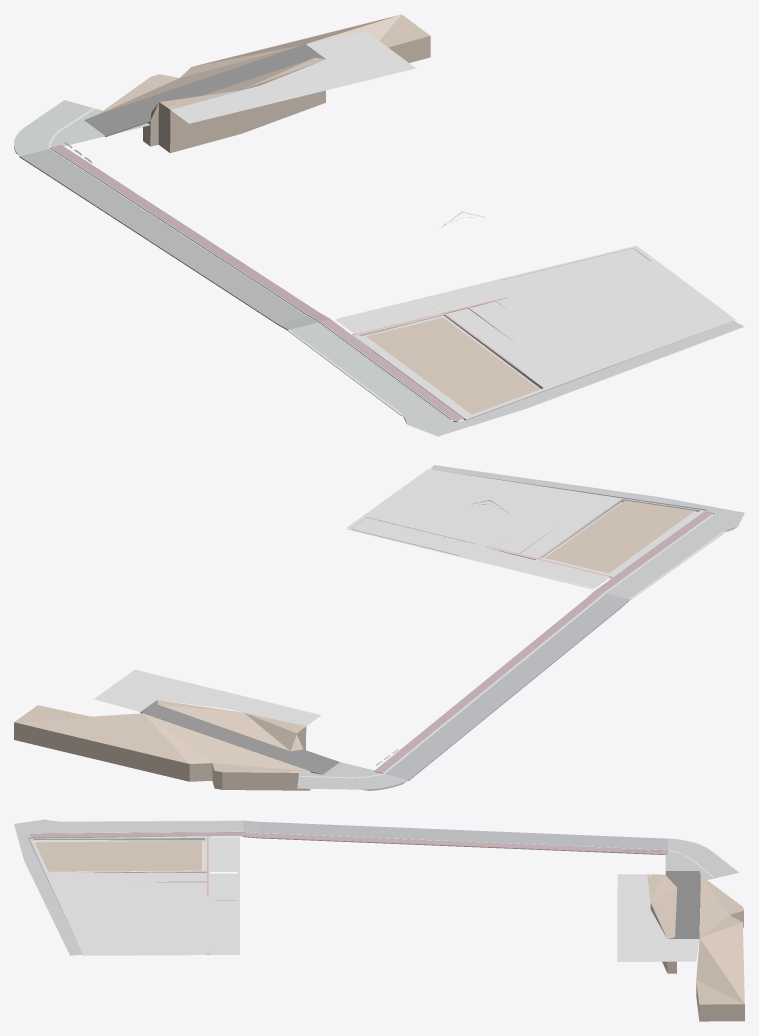
File: Exterieur 1.fbx
The picture shows the model from 3 angles, top to bottom: view 1: azimuth 30°, elevation 25°; view 2: azimuth 150°, elevation 25°; view 3: azimuth 270°, elevation 25°; orthographic projection. The views are drawn at different scales.
Parts seen in each view (by area): view 1: exterieur.001; view 2: exterieur.001; view 3: exterieur.001.
Boxes of the visible parts, x1=… form: exterieur.001: x1=14, y1=14, x2=744, y2=436; exterieur.001: x1=14, y1=465, x2=744, y2=790; exterieur.001: x1=14, y1=819, x2=744, y2=1021.
Bounding box in the file's own units: 8518 × 2274 × 15597.
